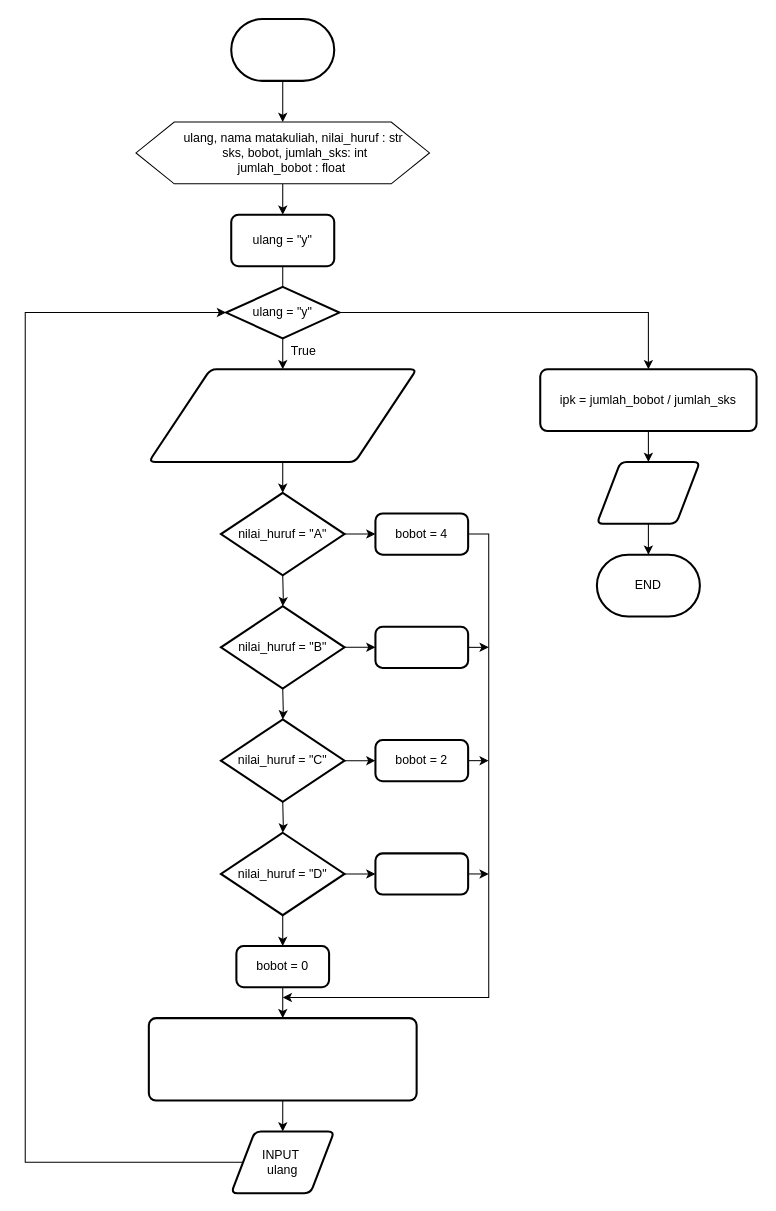
The diagram is 776 pixels wide and 1211 high, and some of its shapes have lost their labels. Here are the shapes that lost their labels. From the top down, the centre of each, then its label:
At point (282, 49): "START".
At point (282, 415): "INPUT nama_matakuliah, nilai_huruf, sks".
At point (647, 492): "PRINT ipk".
At point (421, 646): "bobot = 3".
At point (421, 873): "bobot = 1".
At point (282, 1059): "jumlah_bobot = jumlah_bobot + (bobot * sks) jumlah_sks = jumlah_sks + sks".
